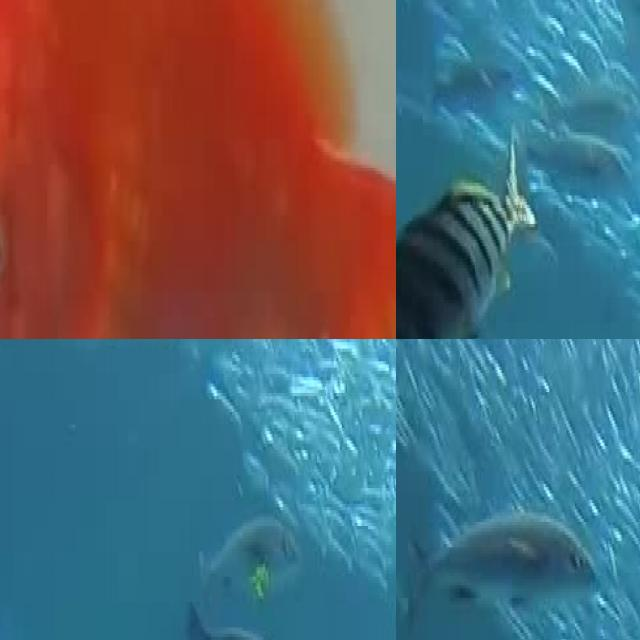fish: (0, 0, 396, 339)
